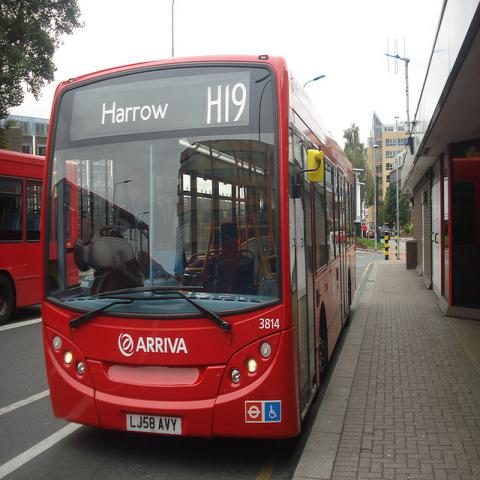bus: (42, 56, 358, 437), (0, 151, 45, 327)
